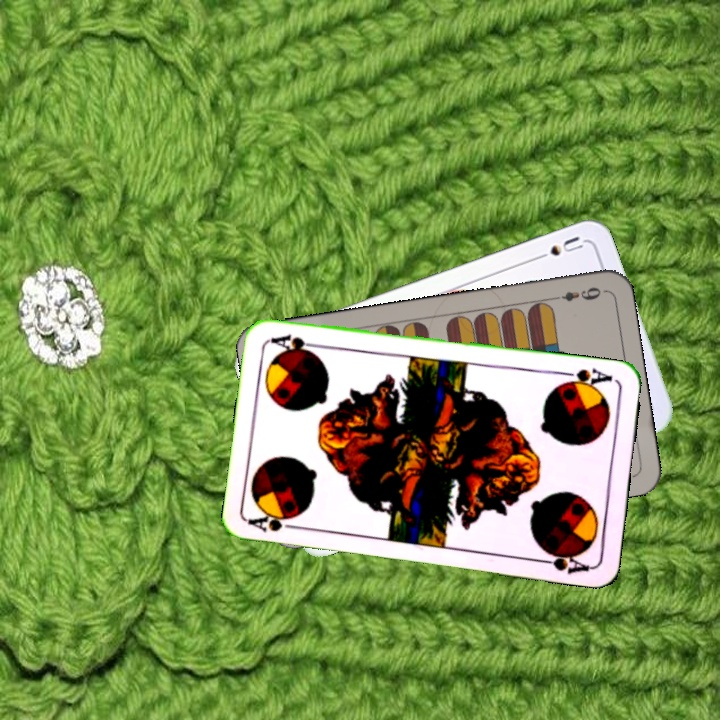E9: (547, 283, 604, 305)
SA: (556, 364, 615, 392), (246, 511, 305, 535)
SU: (529, 232, 587, 264)
